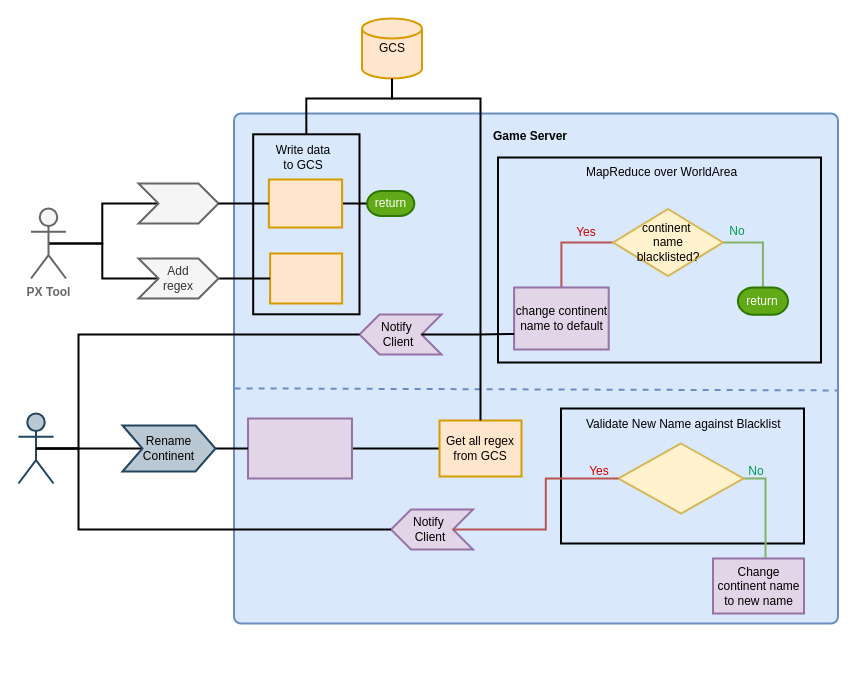
This 858x695 diagram has some shape labels left out. Here are the shapes that lost their labels. From the top down, the box of each, then its label:
(137, 182, 219, 224): Remove regex
(267, 178, 343, 228): Remove regex from GCS
(269, 252, 343, 304): Add regex to GCS
(17, 412, 54, 484): Client
(246, 417, 352, 479): Validate Currency, Authorization, etc.
(617, 442, 744, 514): new name blacklisted?
